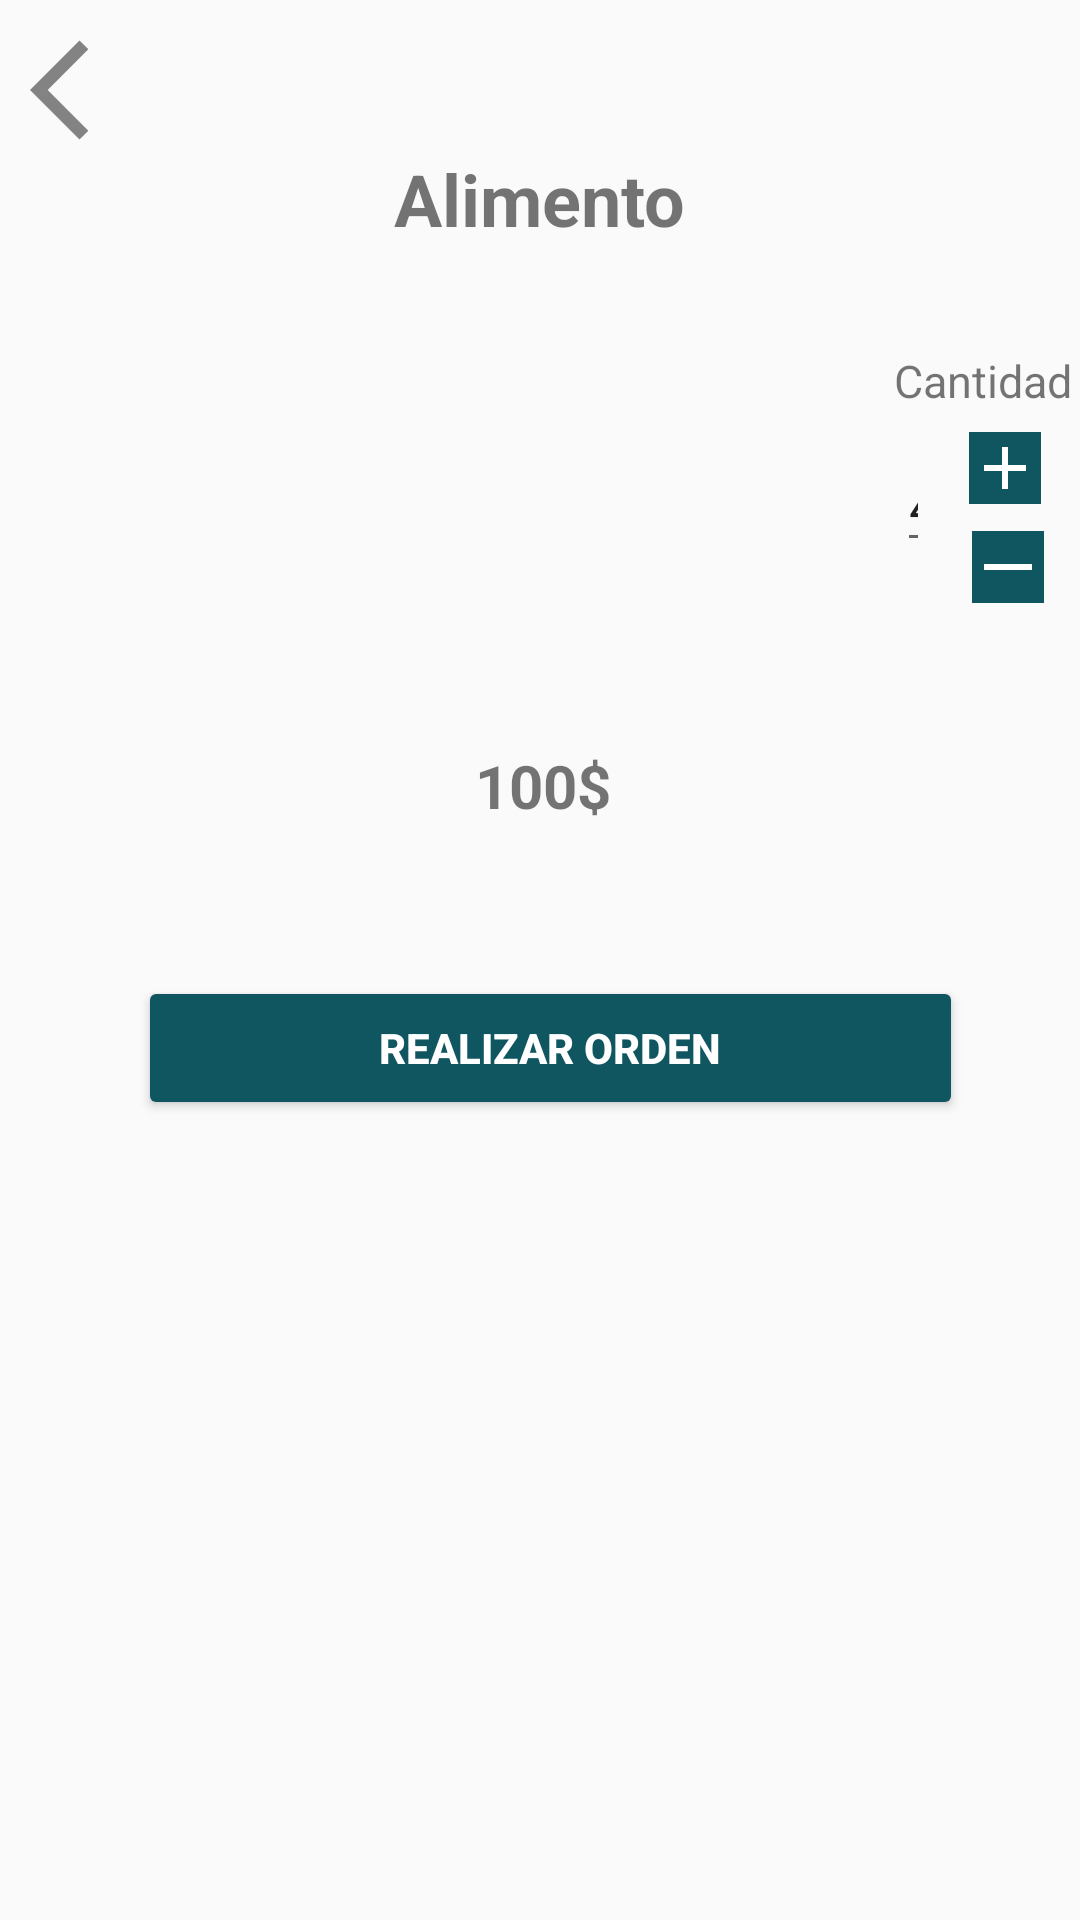

Named icons in this screenshot (1080px x 1920px) and their bounding boxes, (x1, y1, x2, y2):
add: (969, 432, 1041, 504)
arrow back: (30, 40, 88, 140)
less: (972, 531, 1044, 603)
